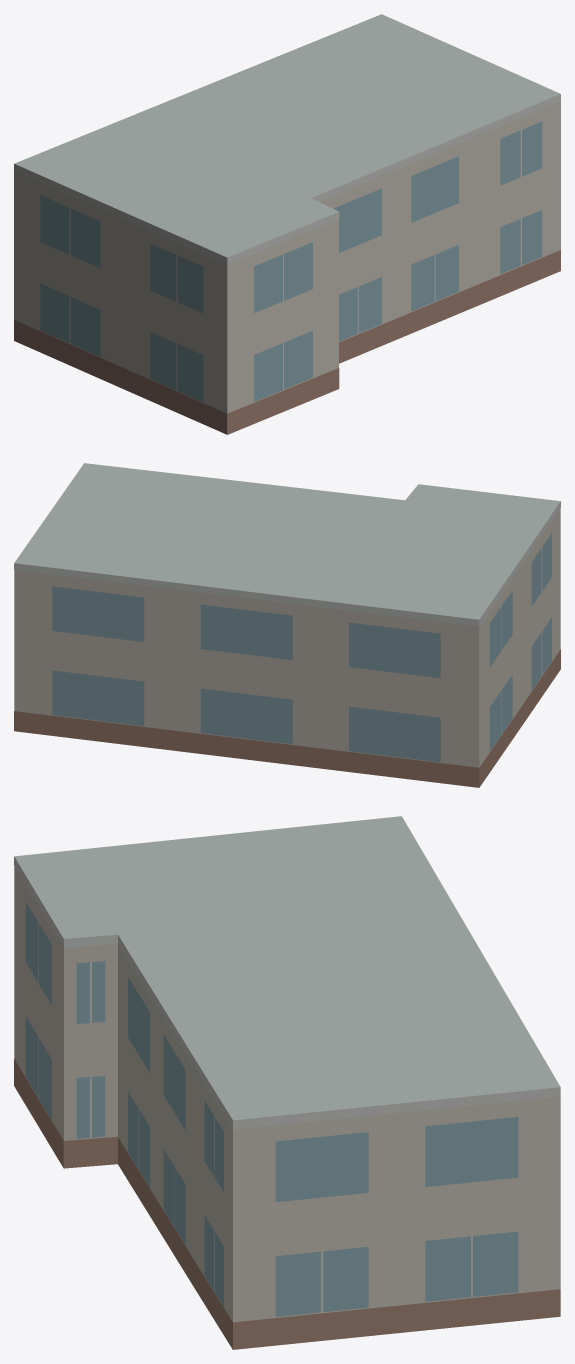
Rendered from survey-upis-32986119.glb.
3 views of the same model, one above another, from view 1: azimuth 30°, elevation 25°; view 2: azimuth 150°, elevation 25°; view 3: azimuth 270°, elevation 25° (orthographic). The views are drawn at different scales.
Parts seen in each view (by area): view 1: survey-upis-32986119.tmp; view 2: survey-upis-32986119.tmp; view 3: survey-upis-32986119.tmp.
Part boxes in pixels (box(x1,y1,x2,y2)): survey-upis-32986119.tmp: box(14, 14, 560, 434); survey-upis-32986119.tmp: box(14, 463, 560, 787); survey-upis-32986119.tmp: box(14, 816, 560, 1349).
Bounding box in the file's own units: 17.36 × 6.1 × 13.18.
